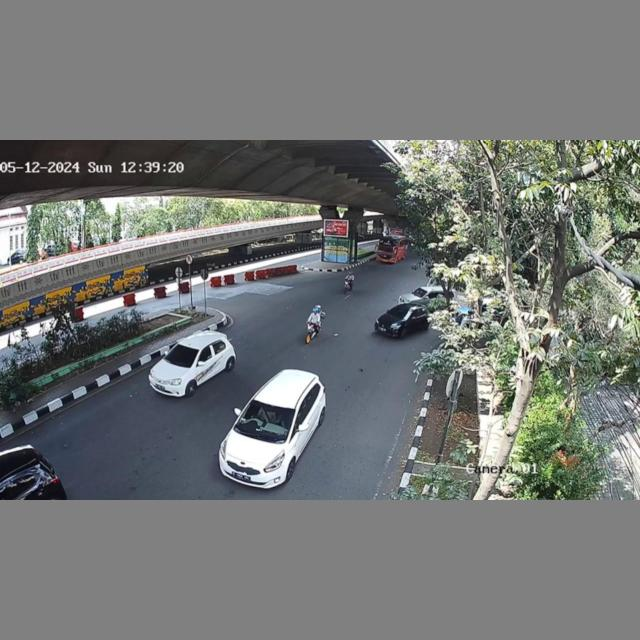windshield: (233, 398, 296, 443), (166, 342, 198, 367)
